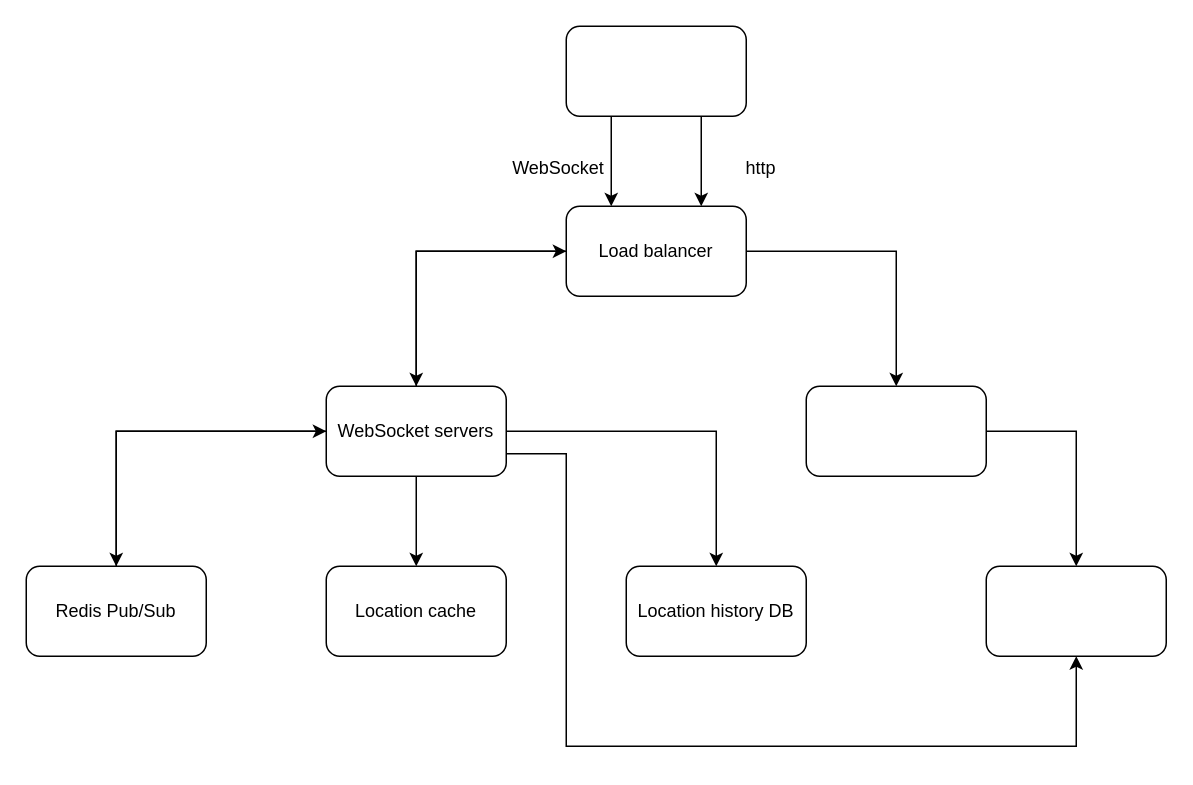
Image size: 1193x785. Some labels were removed from this diagram. Each missing label, with the centre of its shape:
API servers: point 895,430
User: point 655,70
User DB: point 1075,610
